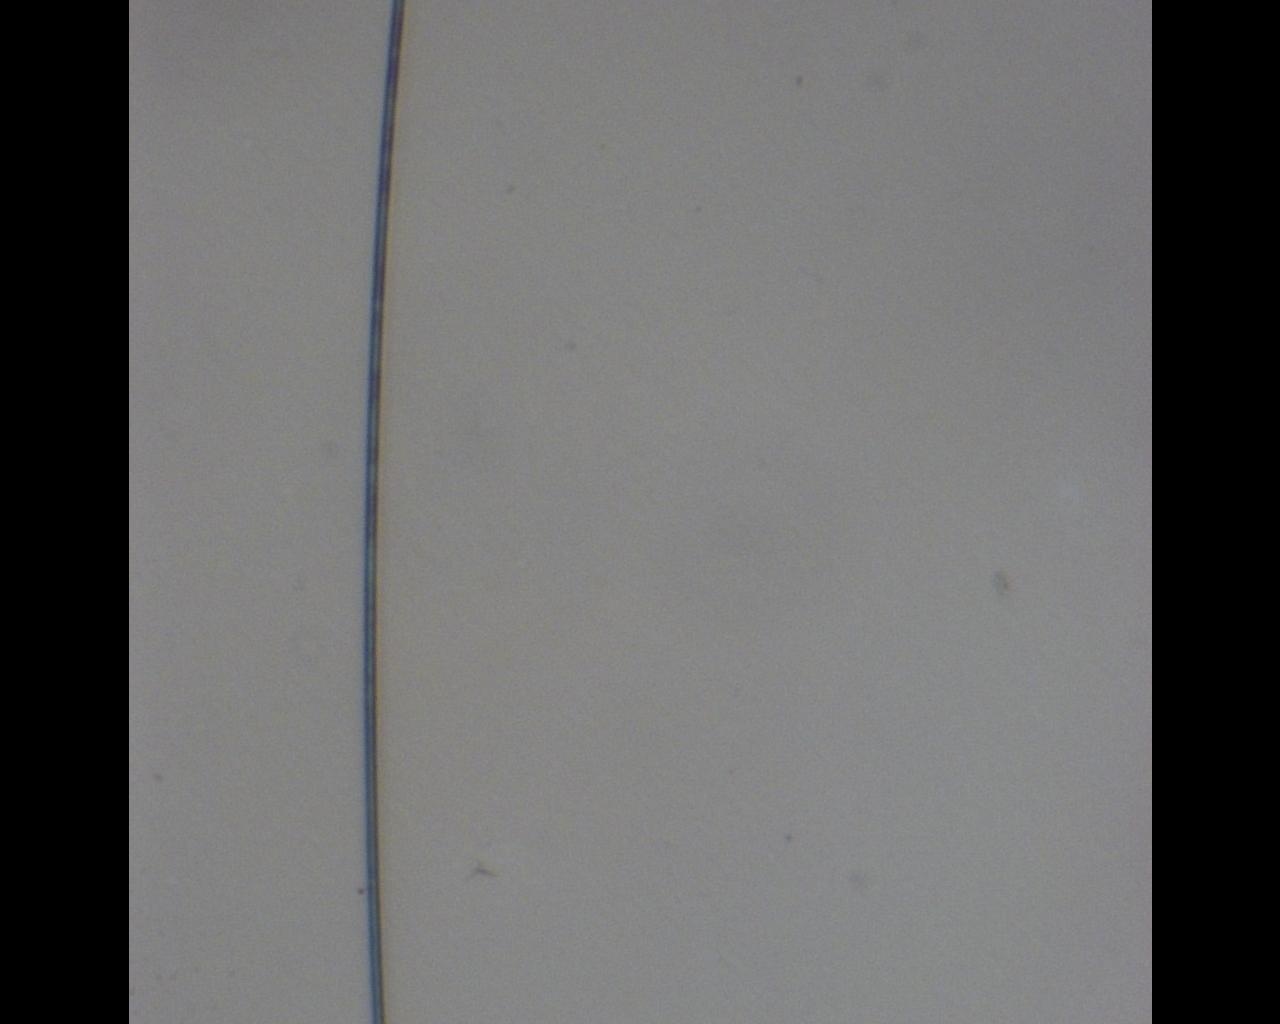fiber: (361, 0, 406, 1024)
